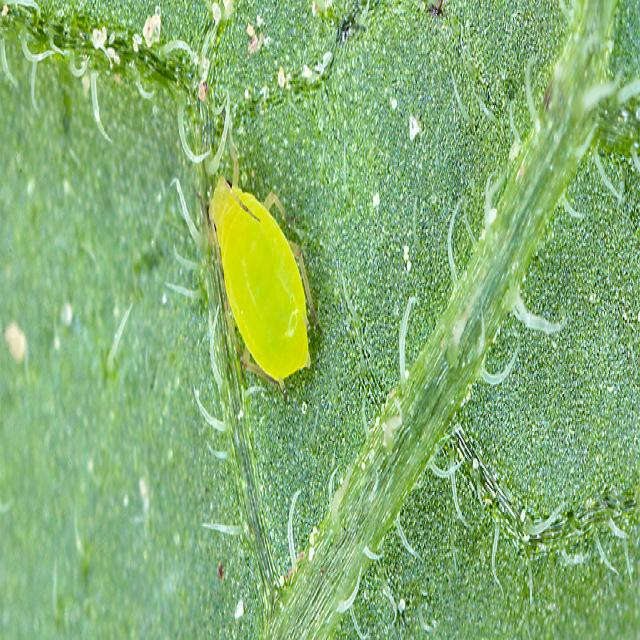Aphid-Grown-: (186, 140, 329, 417)
